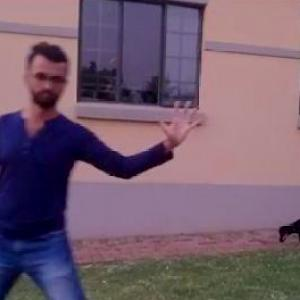follow_hand: (157, 92, 208, 147)
